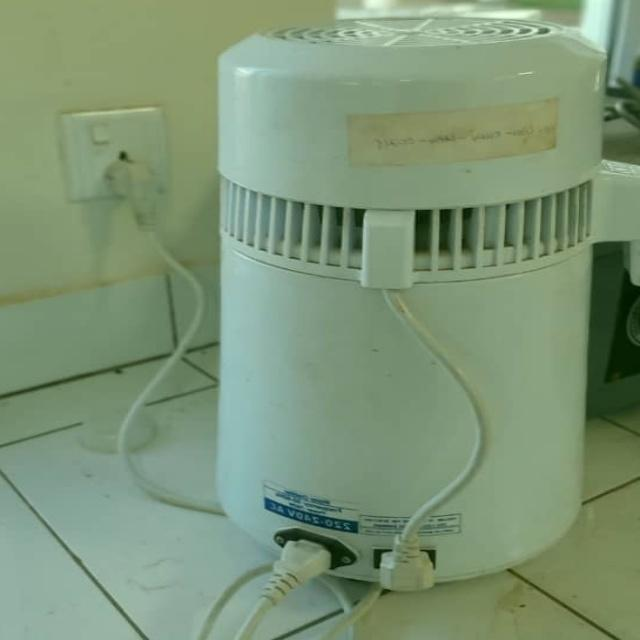Distilled Water Maker: (188, 10, 616, 602)
